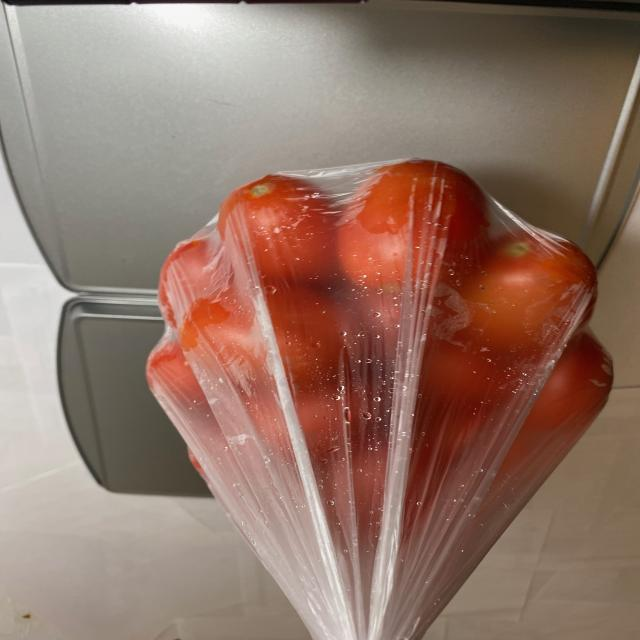tomato: (150, 152, 607, 522)
